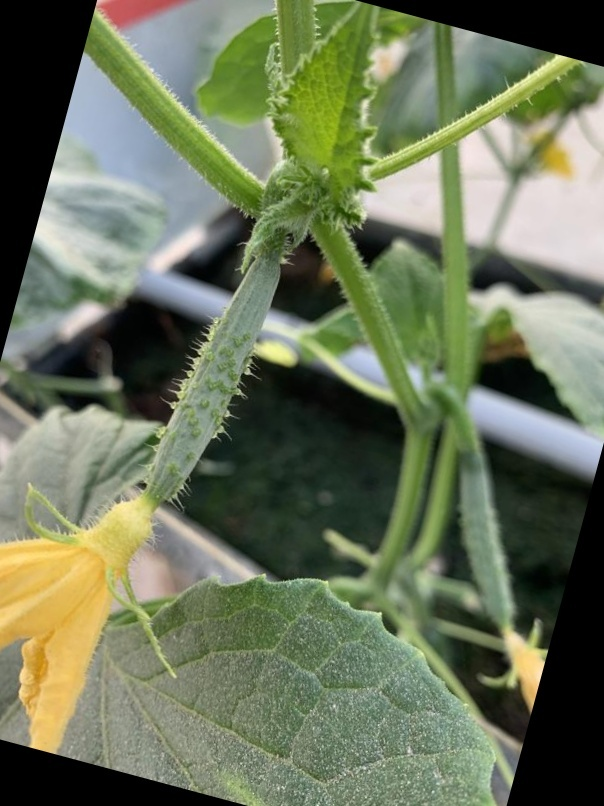bear: (0, 199, 308, 729)
